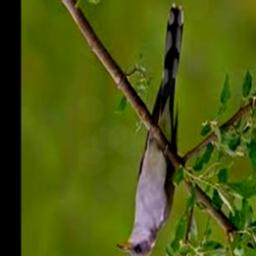Cuckoo: (116, 3, 184, 256)
